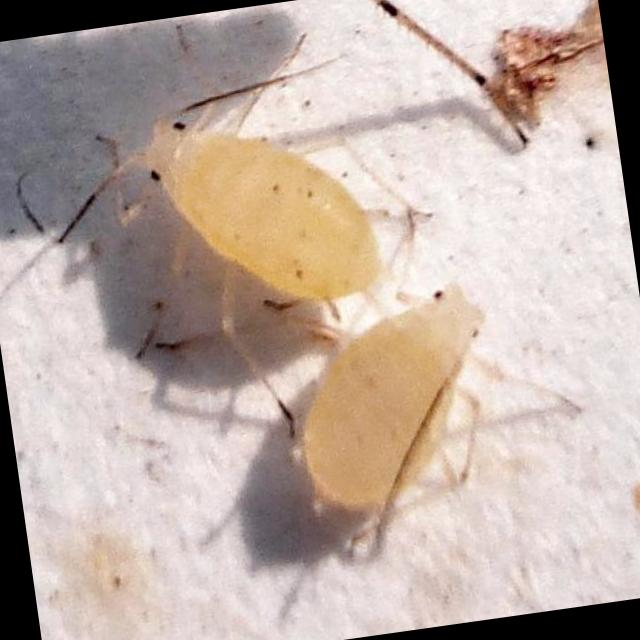aphid: (92, 72, 397, 346), (264, 264, 550, 548)
